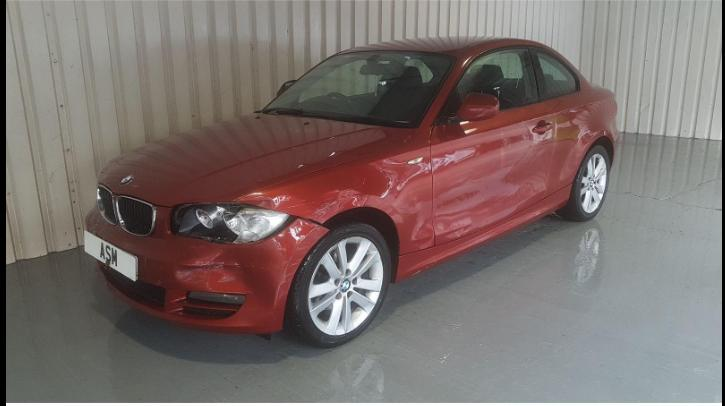Back-bumper: (611, 134, 619, 167)
Back-wheel: (555, 146, 611, 221)
Back-window: (537, 53, 575, 93)
Fender: (234, 127, 435, 255)
Front-bumper: (83, 204, 329, 333)
Front-door: (429, 47, 557, 245)
Front-wheel: (284, 224, 390, 348)
Front-window: (459, 53, 534, 110)
Grille: (95, 184, 155, 237)
Headlight: (175, 202, 289, 243)
Hood: (98, 113, 416, 208)
License-plate: (84, 231, 138, 282)
Mirror: (437, 92, 499, 126), (276, 80, 297, 97)
Quarter-panel: (544, 94, 619, 198)
Rocker-panel: (396, 184, 571, 284)
Roof: (342, 36, 545, 60)
Windshield: (266, 51, 450, 123)
